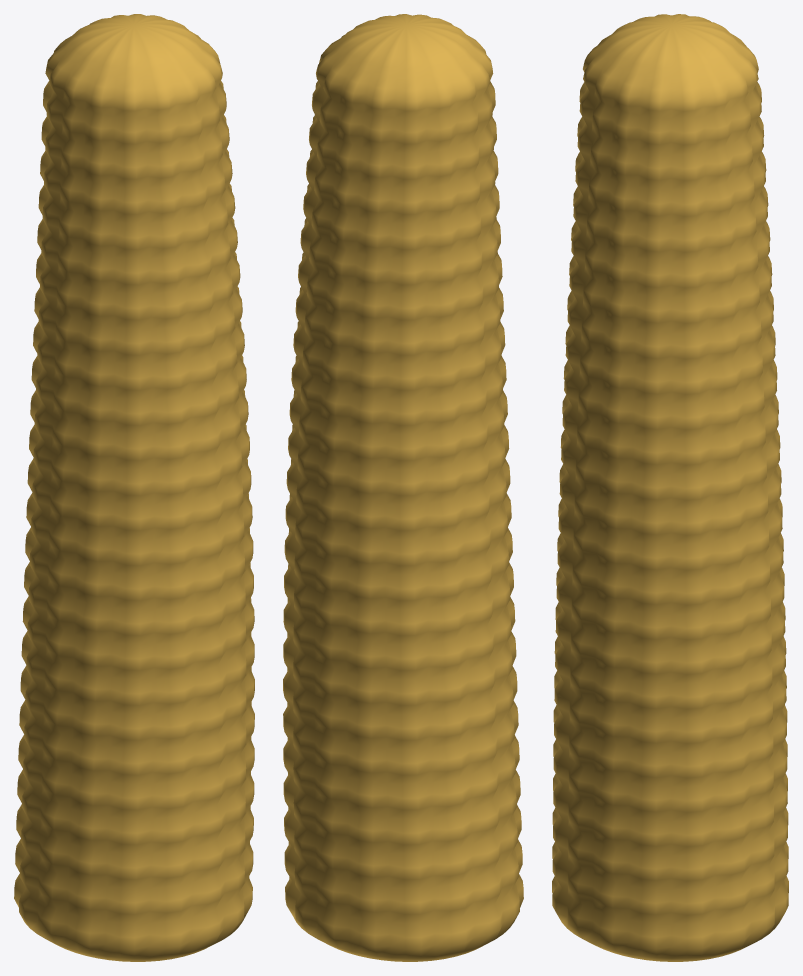
3 renders of one model, left to right at view 1: azimuth 30°, elevation 25°; view 2: azimuth 150°, elevation 25°; view 3: azimuth 270°, elevation 25°, orthographic.
Parts seen in each view (by area): view 1: Whole shucked corn cob with continuous kernel relief; view 2: Whole shucked corn cob with continuous kernel relief; view 3: Whole shucked corn cob with continuous kernel relief.
Part boxes in pixels (bbox=[...]): Whole shucked corn cob with continuous kernel relief: bbox=[14, 14, 254, 961]; Whole shucked corn cob with continuous kernel relief: bbox=[283, 14, 523, 961]; Whole shucked corn cob with continuous kernel relief: bbox=[552, 14, 788, 961].
Bounding box in the file's own units: 4.58 × 19 × 4.51.
